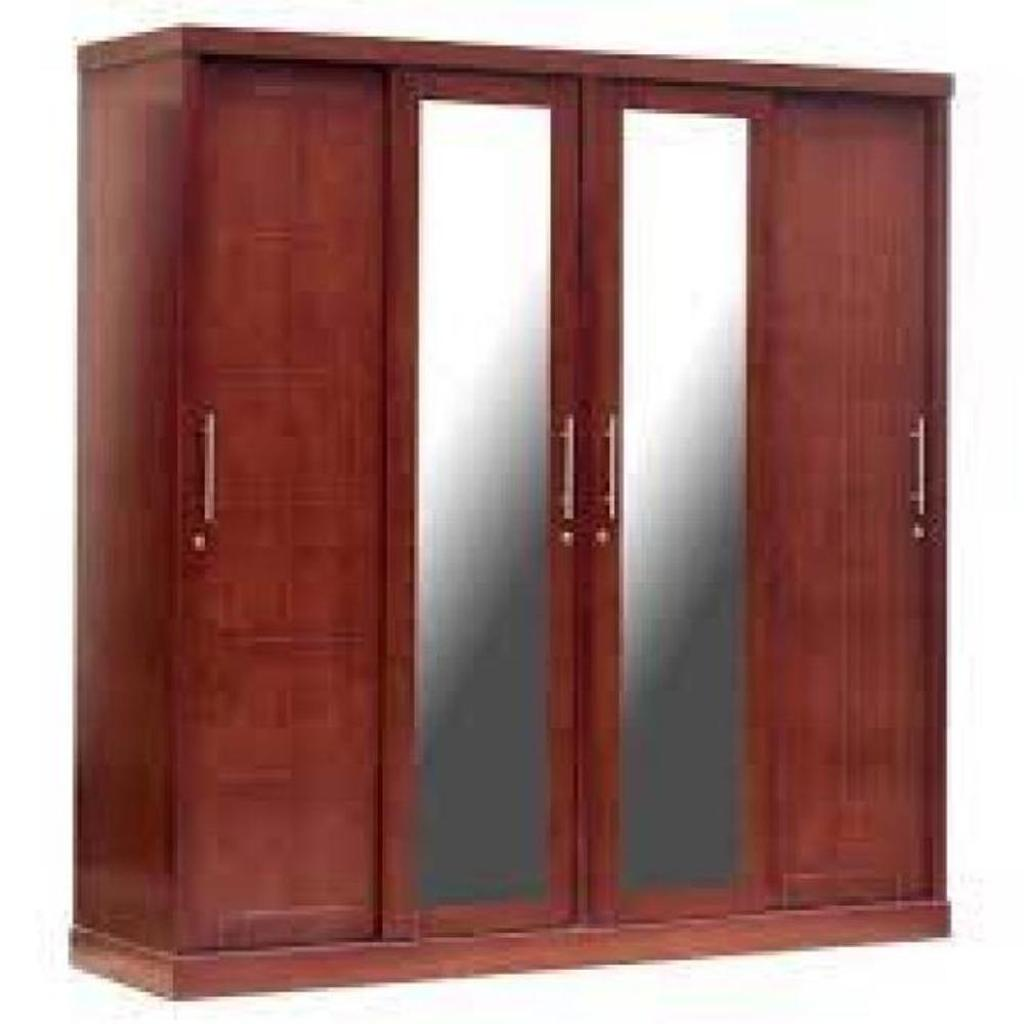cabinet: (67, 24, 963, 1001)
